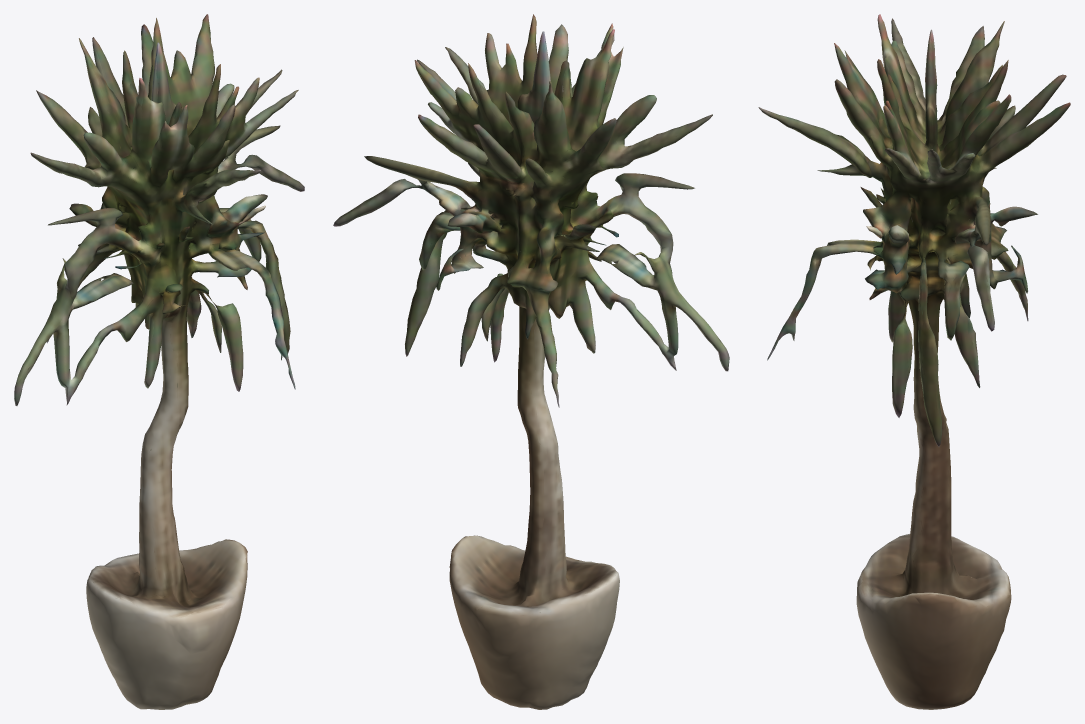
The model's file is preview.glb.
The picture shows the model from 3 angles, left to right: view 1: azimuth 30°, elevation 25°; view 2: azimuth 150°, elevation 25°; view 3: azimuth 270°, elevation 25°; orthographic projection.
Parts seen in each view (by area): view 1: mesh; view 2: mesh; view 3: mesh.
Boxes of the visible parts, <box> form: mesh: <box>14,14,304,709</box>; mesh: <box>333,14,729,709</box>; mesh: <box>758,14,1070,709</box>.
Size of the model in its own units: 1.08 by 1.99 by 0.85.
1 material, 1 textured.
